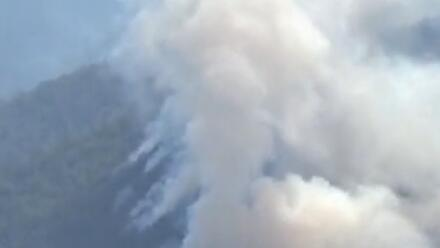yanwu: (104, 1, 440, 246)
